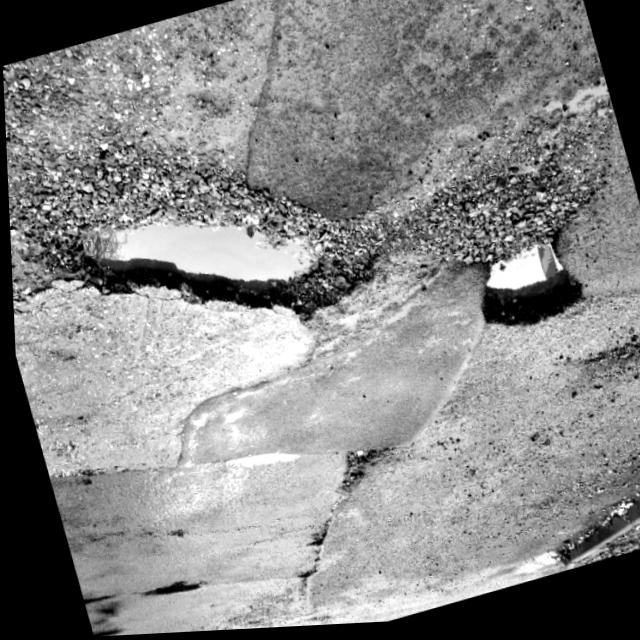pathole: (83, 225, 312, 295), (483, 250, 566, 306)
